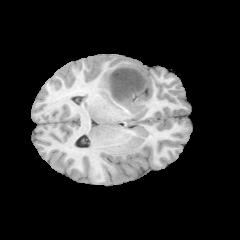glioma: (97, 61, 152, 121)
